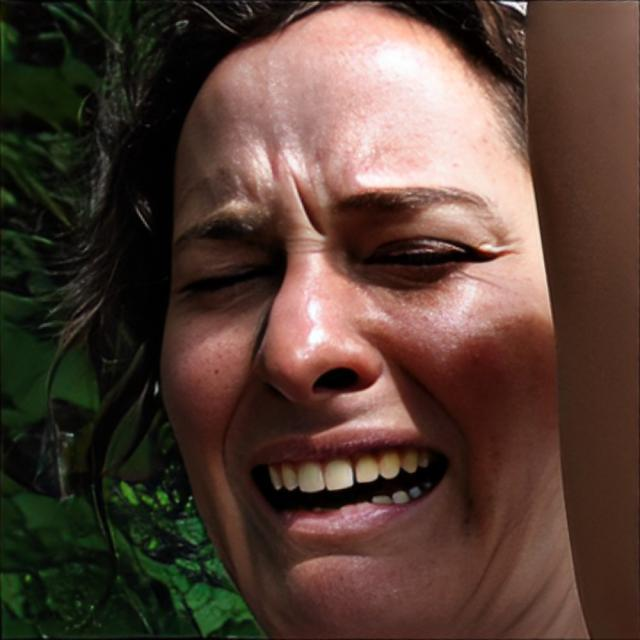disgust: (157, 3, 554, 640)
